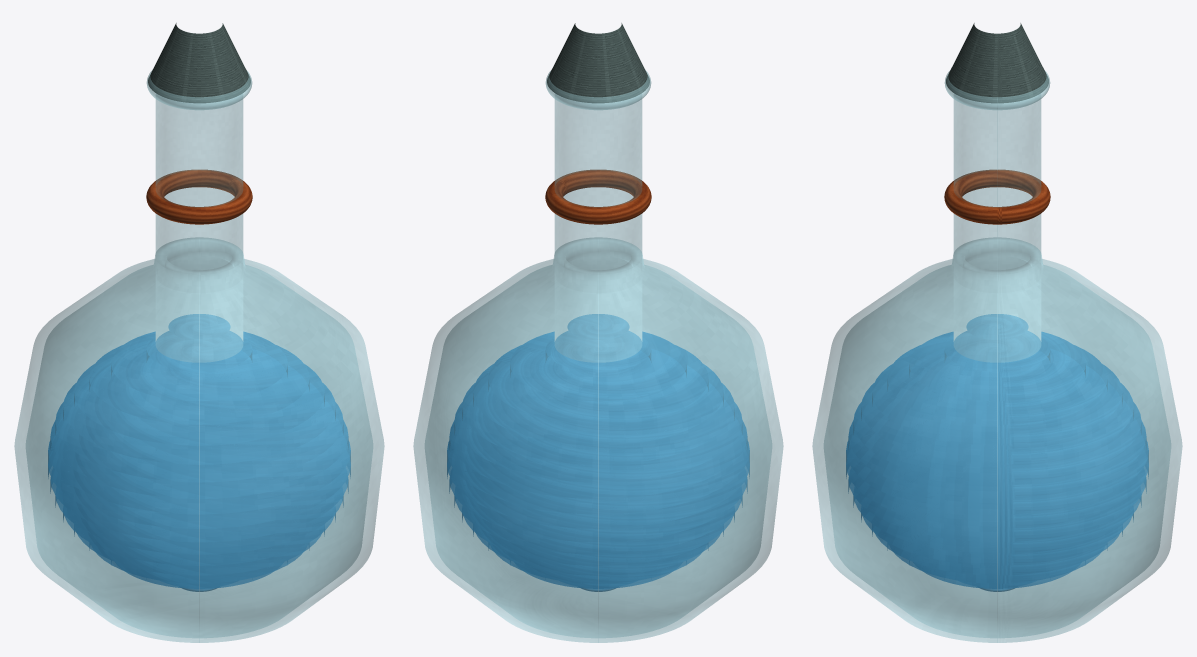
File: alat-08.glb
3 views of the same model, side by side, from view 1: azimuth 30°, elevation 25°; view 2: azimuth 150°, elevation 25°; view 3: azimuth 270°, elevation 25° (orthographic).
Parts seen in each view (by area): view 1: volumetricFlask-0, tube-1, volumetricLiquidLayer-17, volumetricLiquidLayer-16, volumetricLiquidLayer-15, volumetricLiquidLayer-14, cone-22, volumetricLiquidLayer-13, volumetricLiquidLayer-12, volumetricLiquidLayer-11, volumetricLiquidLayer-10, volumetricLiquidLayer-9 (+9 smaller); view 2: volumetricFlask-0, tube-1, volumetricLiquidLayer-17, volumetricLiquidLayer-16, volumetricLiquidLayer-15, volumetricLiquidLayer-14, cone-22, volumetricLiquidLayer-13, volumetricLiquidLayer-12, volumetricLiquidLayer-11, volumetricLiquidLayer-10, volumetricLiquidLayer-9 (+9 smaller); view 3: volumetricFlask-0, tube-1, volumetricLiquidLayer-17, volumetricLiquidLayer-16, volumetricLiquidLayer-15, volumetricLiquidLayer-14, cone-22, volumetricLiquidLayer-13, volumetricLiquidLayer-12, volumetricLiquidLayer-11, volumetricLiquidLayer-10, volumetricLiquidLayer-9 (+9 smaller).
Part boxes in pixels (left/top/right/bottom): volumetricFlask-0: left=14, top=237, right=384, bottom=642; tube-1: left=155, top=94, right=243, bottom=340; volumetricLiquidLayer-17: left=111, top=331, right=287, bottom=400; volumetricLiquidLayer-16: left=89, top=345, right=309, bottom=424; volumetricLiquidLayer-15: left=74, top=364, right=324, bottom=445; volumetricLiquidLayer-14: left=63, top=383, right=335, bottom=464; cone-22: left=148, top=23, right=250, bottom=103; volumetricLiquidLayer-13: left=55, top=402, right=343, bottom=482; volumetricLiquidLayer-12: left=50, top=420, right=348, bottom=498; volumetricLiquidLayer-11: left=48, top=441, right=350, bottom=514; volumetricLiquidLayer-10: left=48, top=458, right=350, bottom=528; volumetricLiquidLayer-9: left=50, top=477, right=348, bottom=541; volumetricFlask-0: left=413, top=237, right=783, bottom=642; tube-1: left=554, top=94, right=642, bottom=340; volumetricLiquidLayer-17: left=510, top=331, right=686, bottom=400; volumetricLiquidLayer-16: left=488, top=345, right=708, bottom=424; volumetricLiquidLayer-15: left=473, top=364, right=723, bottom=445; volumetricLiquidLayer-14: left=462, top=383, right=734, bottom=464; cone-22: left=547, top=23, right=649, bottom=103; volumetricLiquidLayer-13: left=454, top=402, right=742, bottom=482; volumetricLiquidLayer-12: left=449, top=420, right=747, bottom=498; volumetricLiquidLayer-11: left=447, top=441, right=749, bottom=514; volumetricLiquidLayer-10: left=447, top=458, right=749, bottom=528; volumetricLiquidLayer-9: left=449, top=477, right=747, bottom=541; volumetricFlask-0: left=812, top=237, right=1182, bottom=642; tube-1: left=953, top=94, right=1041, bottom=340; volumetricLiquidLayer-17: left=909, top=332, right=1085, bottom=400; volumetricLiquidLayer-16: left=887, top=345, right=1107, bottom=424; volumetricLiquidLayer-15: left=872, top=364, right=1122, bottom=445; volumetricLiquidLayer-14: left=861, top=383, right=1133, bottom=464; cone-22: left=946, top=23, right=1048, bottom=103; volumetricLiquidLayer-13: left=853, top=402, right=1141, bottom=482; volumetricLiquidLayer-12: left=848, top=420, right=1146, bottom=498; volumetricLiquidLayer-11: left=846, top=441, right=1148, bottom=514; volumetricLiquidLayer-10: left=846, top=458, right=1148, bottom=528; volumetricLiquidLayer-9: left=848, top=477, right=1146, bottom=541.
Size of the model in its own units: 2.44 by 4.25 by 2.44.
23 materials, 23 textured.
